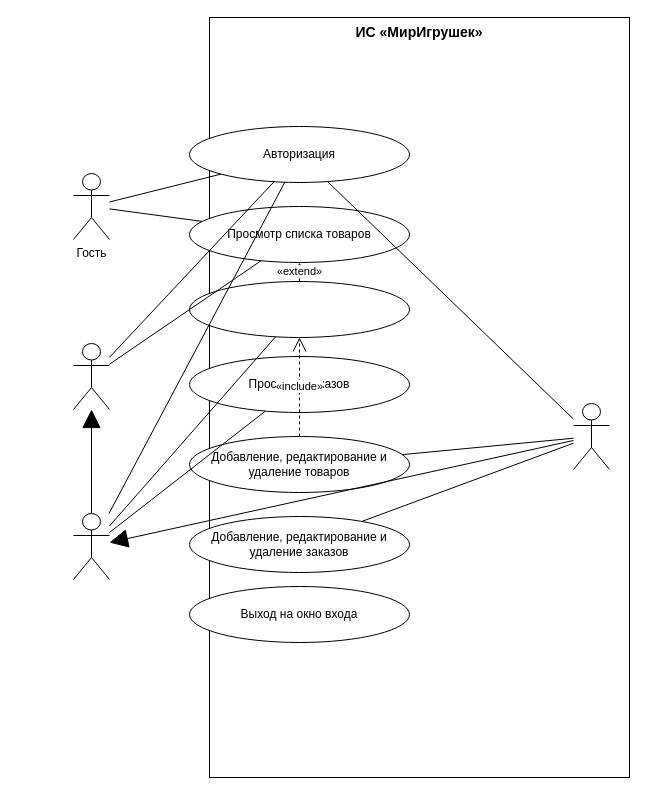
Image size: 652x795. Some labels were removed from this diagram. The shapes that lost their labels are listed below. From the top down, each one's box as (x1, y1, x2, y2) in pixels, then its label:
(188, 280, 410, 338): Поиск, сортировка и фильтрация товаров
(72, 342, 110, 410): Авторизированный клиент
(572, 402, 610, 470): Администратор
(72, 512, 110, 580): Менеджер
